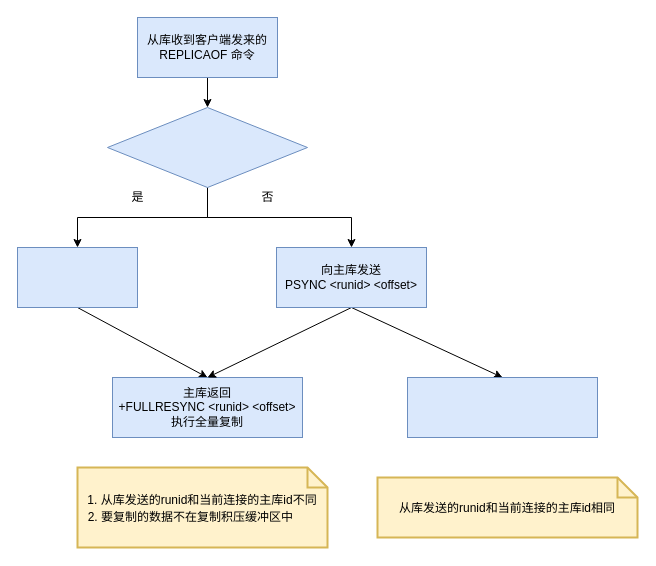
The diagram is 656 pixels wide and 566 high, and some of its shapes have lost their labels. The centre of each missing label's shape, as x and y in pixels:
主库返回 + CONTINUE 执行增量复制: pixel 502 407
从库第一次执行复制？: pixel 207 147
向主库发送 PSYNC ? -1: pixel 77 277
